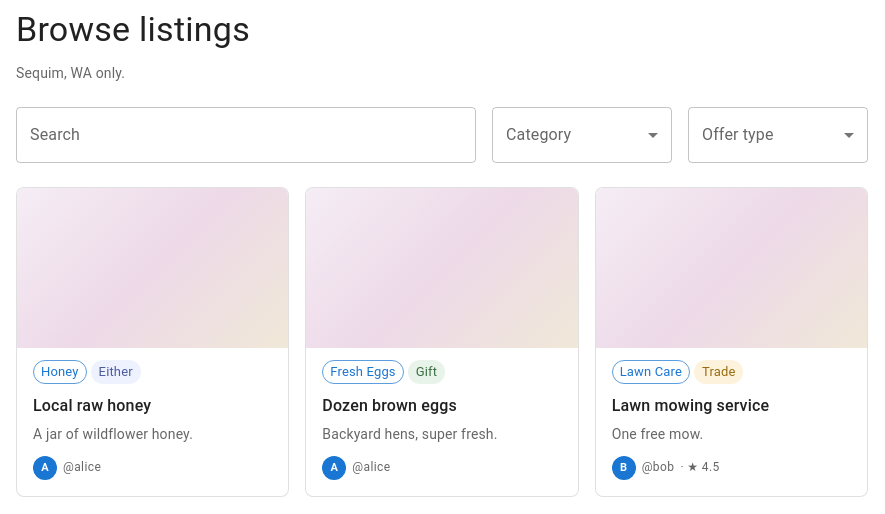
BrowseListingsPage › filters by category
Expected: the heading "Local raw honey" is shown, [33, 396, 151, 415]
// Open the category dropdown and pick Honey.
Click the dropdown named "category" next to "Category": [582, 135] box [492, 107, 672, 163]
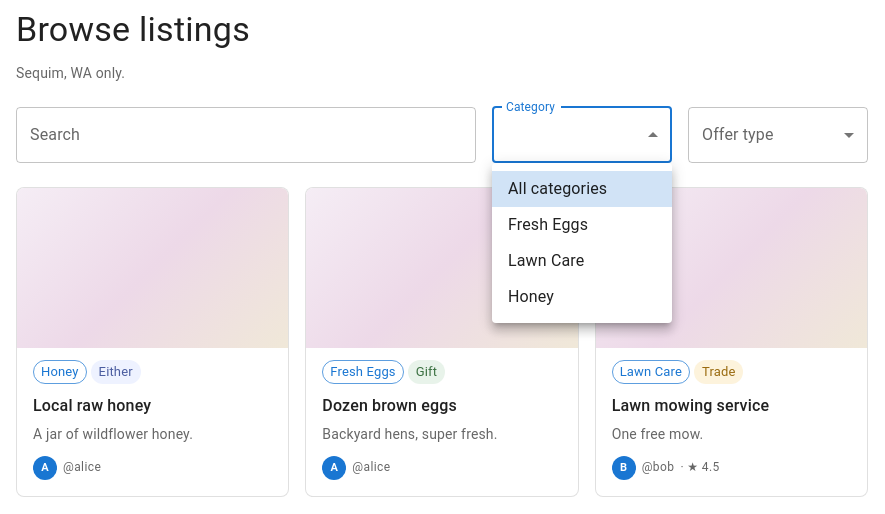
Click the option "Honey": [531, 296] box [508, 287, 554, 306]
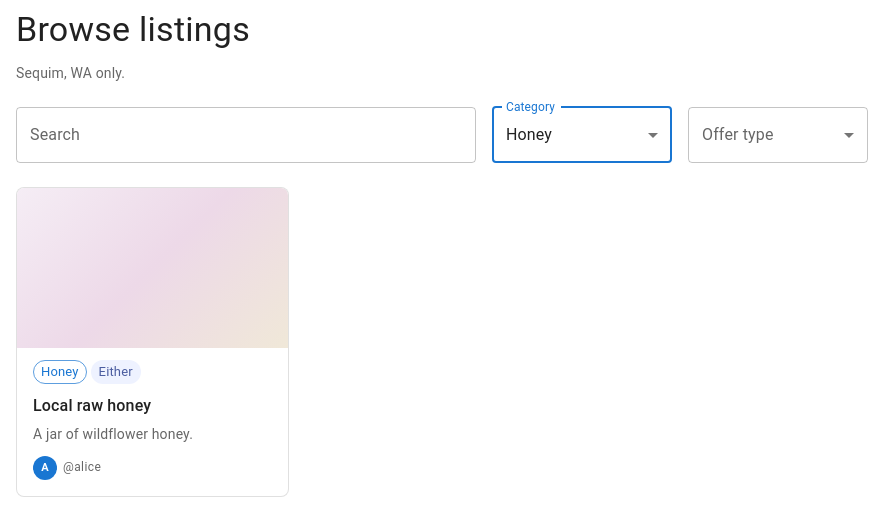
Expected: the heading "Local raw honey" is shown, [33, 396, 151, 415]
Expected: the link "Dozen brown eggs" is gone
Expected: the link "Lawn mowing service" is gone
